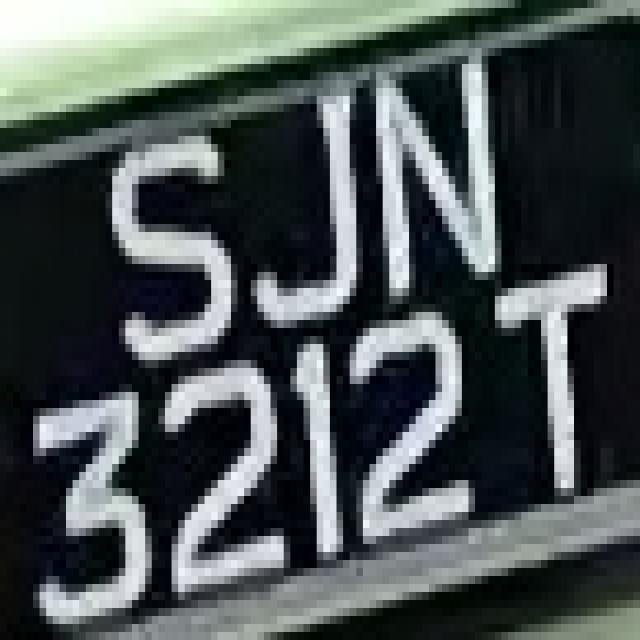1: (277, 296, 356, 576)
2: (330, 288, 488, 560), (145, 336, 284, 608)
3: (7, 384, 158, 640)
J: (211, 56, 370, 344)
N: (343, 40, 528, 320)
S: (106, 96, 244, 360)
T: (468, 248, 620, 520)
